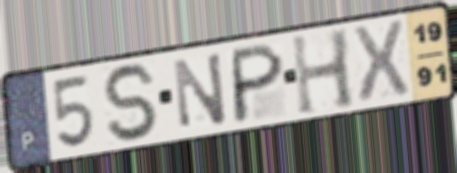5: (50, 73, 96, 150)
H: (289, 26, 359, 119)
N: (170, 49, 229, 131)
P: (230, 40, 287, 126)
S: (100, 61, 163, 144)
X: (350, 18, 413, 107)
